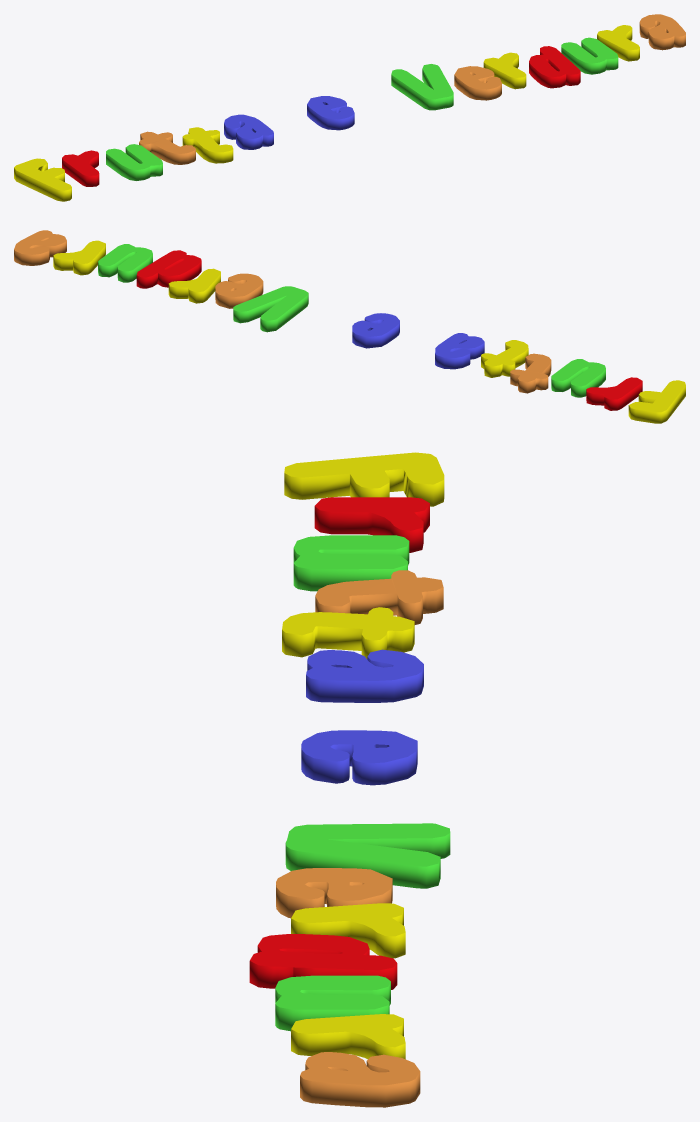
Rendered from insegna_frutta.fbx.
3 views of the same model, one above another, from view 1: azimuth 30°, elevation 25°; view 2: azimuth 150°, elevation 25°; view 3: azimuth 270°, elevation 25° (orthographic). The views are drawn at different scales.
Parts seen in each view (by area): view 1: Text; view 2: Text; view 3: Text.
Boxes of the visible parts, left/top/right/bottom form: Text: left=14, top=14, right=685, bottom=201; Text: left=14, top=230, right=685, bottom=423; Text: left=249, top=452, right=450, bottom=1107.
Size of the model in its own units: 698 by 11.57 by 93.51.
